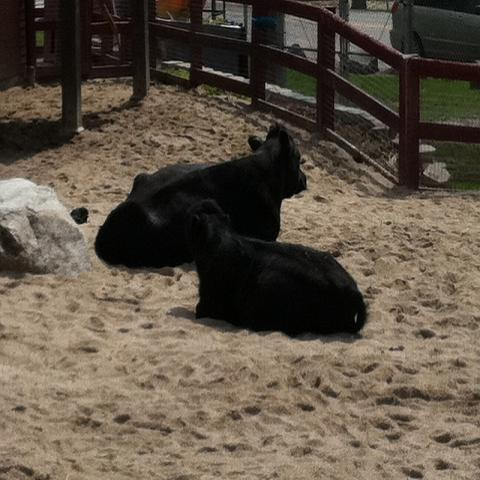car: (387, 0, 480, 65)
